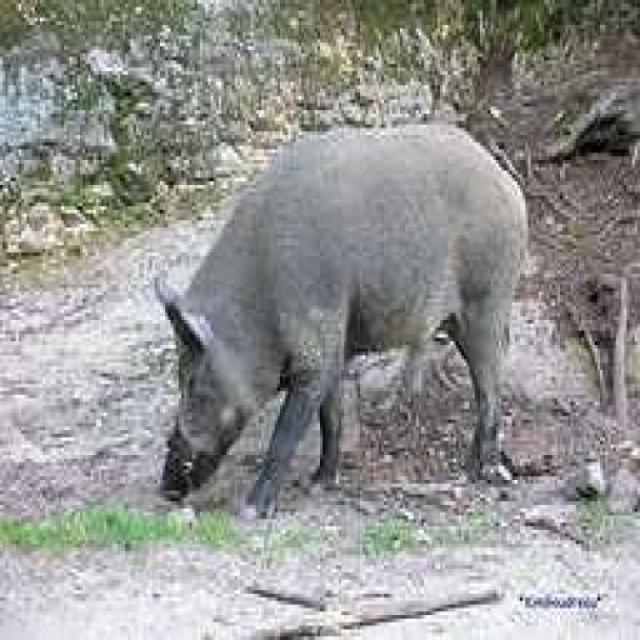pig: (118, 86, 552, 528)
